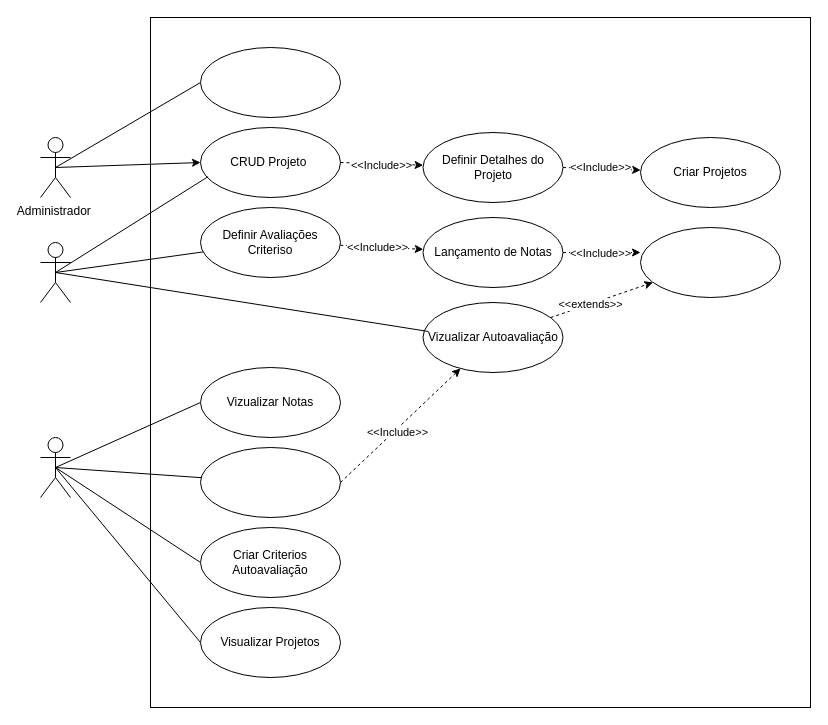
Some shapes in this 828 by 725 pixel diagram are drawn without their labels. The centre of each missing label's shape, as x and y in pixels:
"Aluno" belongs at pixel 55 467.
"CRUD Usuários" belongs at pixel 270 82.
"Envair Autoavalção" belongs at pixel 270 482.
"Gerenciar Detalhes Avalaiações" belongs at pixel 710 262.
"Professor" belongs at pixel 55 272.
